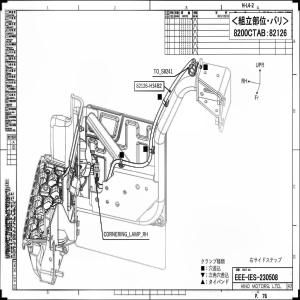PartNumber: (136, 83, 162, 89)
